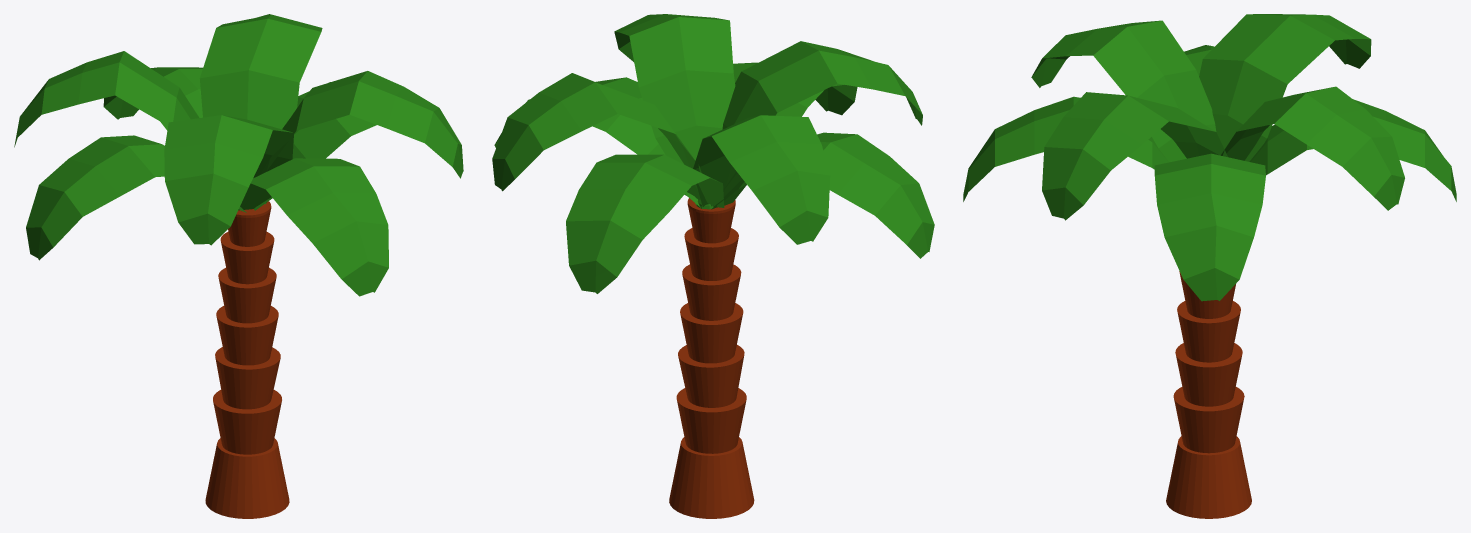
File: palm.glb
3 views of the same model, side by side, from view 1: azimuth 30°, elevation 25°; view 2: azimuth 150°, elevation 25°; view 3: azimuth 270°, elevation 25° (orthographic). The views are drawn at different scales.
Parts seen in each view (by area): view 1: Plane, Plane.004, Plane.006, Plane.001, Plane.007, Plane.005, Cylinder, Cylinder.001, Cylinder.002, Cylinder.003, Plane.003, Cylinder.005 (+3 smaller); view 2: Plane.002, Plane.007, Plane.005, Plane.006, Plane.004, Plane.001, Cylinder, Cylinder.001, Cylinder.002, Cylinder.003, Cylinder.005, Plane.003 (+3 smaller); view 3: Plane.003, Plane.005, Plane.007, Plane.006, Plane.004, Cylinder, Plane, Plane.002, Cylinder.001, Cylinder.002, Cylinder.003, Cylinder.005.
Boxes of the visible parts, x1,y1,x2,y2 form: Plane: (238, 158, 388, 296); Plane.004: (164, 115, 293, 245); Plane.006: (199, 14, 322, 204); Plane.001: (26, 135, 246, 260); Plane.007: (243, 71, 463, 208); Plane.005: (14, 51, 199, 147); Cylinder: (205, 438, 289, 518); Cylinder.001: (213, 390, 281, 454); Cylinder.002: (215, 347, 280, 409); Cylinder.003: (216, 306, 278, 365); Plane.003: (254, 82, 376, 210); Cylinder.005: (218, 267, 276, 323); Plane.002: (566, 154, 724, 293); Plane.007: (614, 14, 735, 204); Plane.005: (693, 115, 830, 244); Plane.006: (492, 73, 713, 206); Plane.004: (711, 41, 922, 206); Plane.001: (711, 132, 934, 258); Cylinder: (669, 437, 754, 518); Cylinder.001: (676, 388, 746, 453); Cylinder.002: (678, 345, 744, 407); Cylinder.003: (680, 303, 743, 363); Cylinder.005: (682, 264, 741, 320); Plane.003: (494, 77, 700, 207); Plane.003: (1154, 153, 1265, 301); Plane.005: (1199, 14, 1371, 161); Plane.007: (1042, 92, 1227, 220); Plane.006: (1221, 86, 1404, 210); Plane.004: (1031, 20, 1216, 162); Cylinder: (1166, 436, 1251, 518); Plane: (963, 96, 1168, 201); Plane.002: (1249, 99, 1456, 201); Cylinder.001: (1173, 387, 1244, 453); Cylinder.002: (1175, 343, 1242, 406); Cylinder.003: (1177, 301, 1240, 362); Cylinder.005: (1179, 271, 1235, 318).
Bounding box in the file's own units: 11.4 × 11.3 × 11.46.
